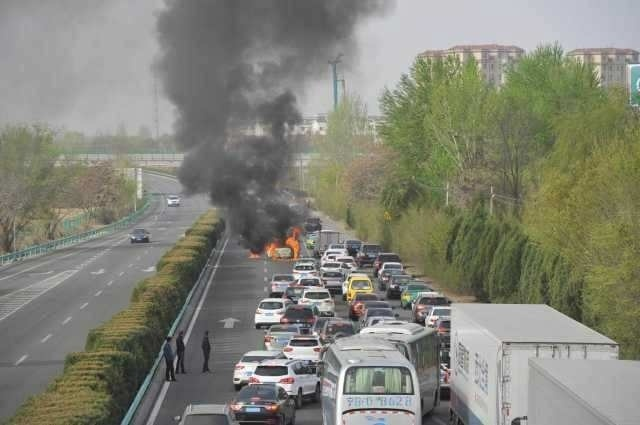fire: (252, 227, 303, 258)
